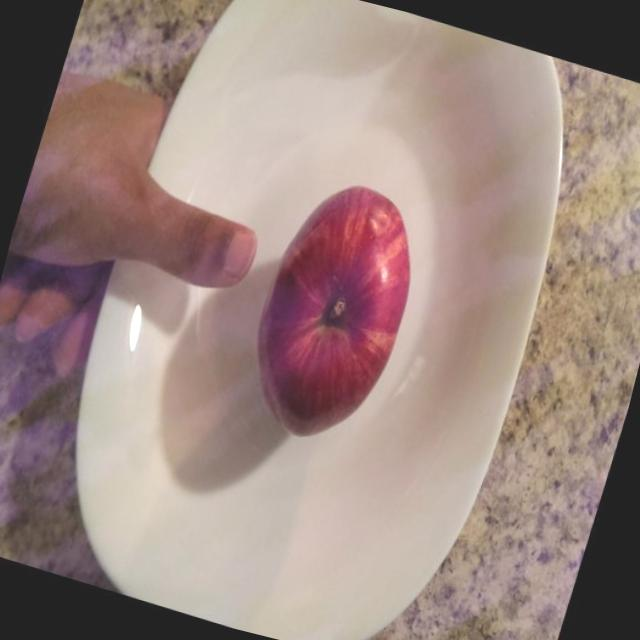Apple: (225, 162, 444, 466)
Finger: (154, 195, 270, 308)
